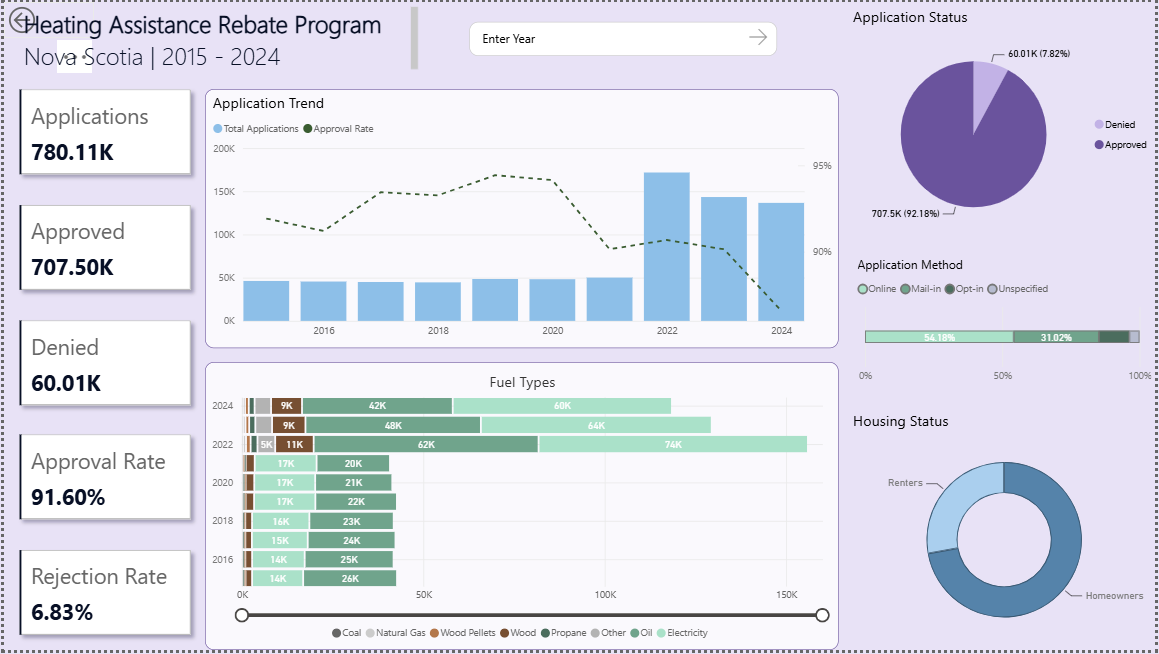

This screenshot's page, from the dashboard's own definition file:
{"tool":"powerbi","page":{"name":"Overview","canvas":[1280,720],"ordinal":0},"visuals":[{"type":"barChart","title":"Fuel Types","fields":{"Category":["Heating_Assistance_Rebate_Program_20260807.Year"],"Y":["Sum(Heating_Assistance_Rebate_Program_20260807.Coal)","Sum(Heating_Assistance_Rebate_Program_20260807.Natural Gas)","Sum(Heating_Assistance_Rebate_Program_20260807.Wood Pellets)","Sum(Heating_Assistance_Rebate_Program_20260807.Wood)","Sum(Heating_Assistance_Rebate_Program_20260807.Propane)","Sum(Heating_Assistance_Rebate_Program_20260807.Other)","Sum(Heating_Assistance_Rebate_Program_20260807.Oil)","Sum(Heating_Assistance_Rebate_Program_20260807.Electricity)"]},"box":[224,400,704,320],"z":0},{"type":"pieChart","title":"Application Status","fields":{"Y":["Sum(Heating_Assistance_Rebate_Program_20260807.Denied Applications)","Sum(Heating_Assistance_Rebate_Program_20260807.Approved Applications)"]},"box":[944,0,336,272],"z":1000},{"type":"hundredPercentStackedBarChart","title":"Application Method","fields":{"Y":["Sum(Heating_Assistance_Rebate_Program_20260807.Online Applications)","Sum(Heating_Assistance_Rebate_Program_20260807.Mailed-in Applications)","Sum(Heating_Assistance_Rebate_Program_20260807.Opt-in Applications from Property Tax Rebate for Seniors)","Sum(Heating_Assistance_Rebate_Program_20260807.Other Applications)"]},"box":[944,272,336,160],"z":2000},{"type":"actionButton","box":[0,0,100,40],"z":3000},{"type":"donutChart","title":"Housing Status","fields":{"Y":["Sum(Heating_Assistance_Rebate_Program_20260807.Homeowners)","Sum(Heating_Assistance_Rebate_Program_20260807.Renters)"]},"box":[944,448,336,272],"z":4000},{"type":"cardVisual","fields":{"Data":["Avg(Heating_Assistance_Rebate_Program_20260807.Approval Rate)"]},"box":[0,464,224,128],"z":5000},{"type":"cardVisual","fields":{"Data":["Sum(Heating_Assistance_Rebate_Program_20260807.Denied Applications)"]},"box":[0,336,224,128],"z":6000},{"type":"cardVisual","fields":{"Data":["Sum(Heating_Assistance_Rebate_Program_20260807.Approved Applications)"]},"box":[0,208,224,128],"z":7000},{"type":"cardVisual","fields":{"Data":["Avg(Heating_Assistance_Rebate_Program_20260807.Rejection Rate)"]},"box":[0,592,224,128],"z":8000},{"type":"cardVisual","fields":{"Data":["Sum(Heating_Assistance_Rebate_Program_20260807.Total Applications)"]},"box":[0,80,224,128],"z":9000},{"type":"lineClusteredColumnComboChart","title":"Application Trend","fields":{"Category":["Heating_Assistance_Rebate_Program_20260807.Year"],"Y":["Sum(Heating_Assistance_Rebate_Program_20260807.Total Applications)"],"Y2":["Sum(Heating_Assistance_Rebate_Program_20260807.Approval Rate)"]},"box":[224,96,704,288],"z":10000},{"type":"textSlicer","fields":{"Values":["Heating_Assistance_Rebate_Program_20260807.Year"]},"box":[512,16,352,48],"z":11000},{"type":"textbox","box":[16,0,448,80],"z":12000}]}

Visuals, with their boxes in screenshot pixels (x1, y1, x2, y2), scaled from the page's 1280x720 canvas onto the 1159x654 screenshot:
"Fuel Types" barChart: {"x1": 203, "y1": 363, "x2": 840, "y2": 653}
"Application Status" pieChart: {"x1": 855, "y1": 0, "x2": 1158, "y2": 247}
"Application Method" hundredPercentStackedBarChart: {"x1": 855, "y1": 247, "x2": 1158, "y2": 392}
actionButton: {"x1": 0, "y1": 0, "x2": 91, "y2": 36}
"Housing Status" donutChart: {"x1": 855, "y1": 407, "x2": 1158, "y2": 653}
cardVisual - Avg(Heating_Assistance_Rebate_Program_20260807.Approval Rate): {"x1": 0, "y1": 421, "x2": 203, "y2": 538}
cardVisual - Sum(Heating_Assistance_Rebate_Program_20260807.Denied Applications): {"x1": 0, "y1": 305, "x2": 203, "y2": 421}
cardVisual - Sum(Heating_Assistance_Rebate_Program_20260807.Approved Applications): {"x1": 0, "y1": 189, "x2": 203, "y2": 305}
cardVisual - Avg(Heating_Assistance_Rebate_Program_20260807.Rejection Rate): {"x1": 0, "y1": 538, "x2": 203, "y2": 653}
cardVisual - Sum(Heating_Assistance_Rebate_Program_20260807.Total Applications): {"x1": 0, "y1": 73, "x2": 203, "y2": 189}
"Application Trend" lineClusteredColumnComboChart: {"x1": 203, "y1": 87, "x2": 840, "y2": 349}
textSlicer - Heating_Assistance_Rebate_Program_20260807.Year: {"x1": 464, "y1": 15, "x2": 782, "y2": 58}
textbox: {"x1": 14, "y1": 0, "x2": 420, "y2": 73}
